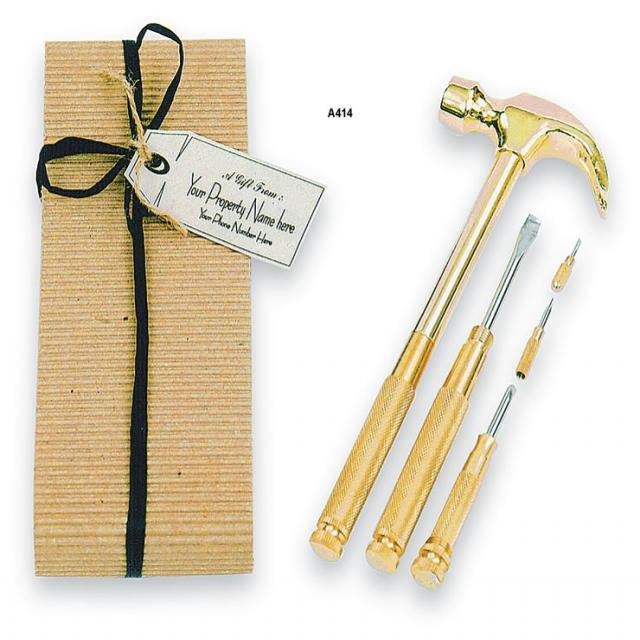hammer: (280, 67, 616, 572)
screwdriver: (368, 206, 555, 581), (405, 378, 528, 601), (508, 288, 564, 384), (548, 231, 592, 294)
